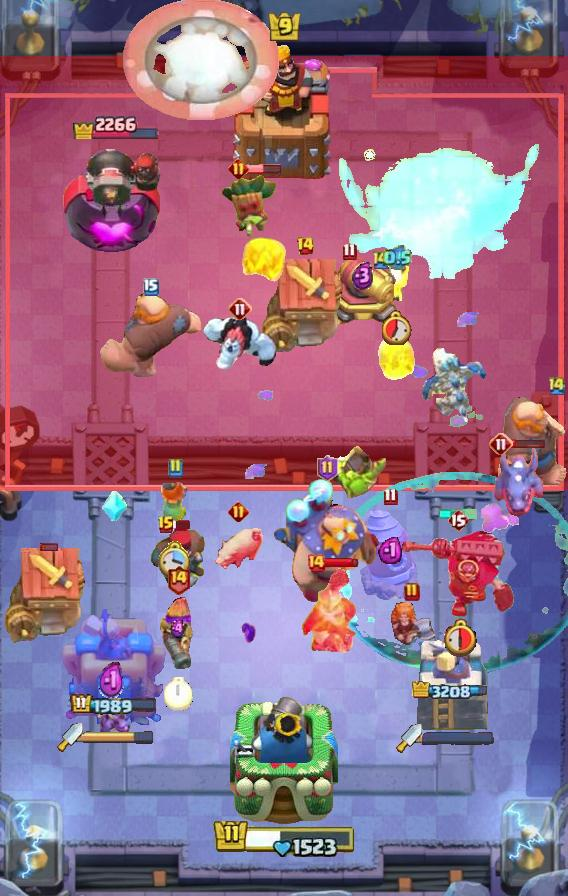balloon: (99, 289, 203, 381), (494, 393, 568, 501)
bar: (62, 601, 166, 731), (416, 637, 490, 731)
bomb-tower: (157, 593, 199, 673)
clock: (212, 815, 356, 857)
electro-spirit: (99, 662, 125, 703), (383, 245, 412, 271), (378, 535, 402, 564), (352, 262, 374, 291), (169, 619, 187, 637)
elixir: (439, 617, 477, 657), (158, 539, 193, 579), (382, 310, 412, 345), (163, 677, 192, 711)
emote: (246, 163, 282, 175), (323, 557, 359, 569), (510, 439, 545, 450), (172, 518, 192, 529), (40, 542, 59, 552)
giant: (212, 522, 264, 572)
goblin-barrel: (220, 173, 278, 239)
graveyard: (492, 446, 546, 518)
heal-spirit: (381, 258, 413, 304)
hog-rider: (387, 598, 437, 648), (156, 477, 194, 529)
ice-spirit: (438, 509, 478, 519)
inferno-tower: (400, 531, 516, 619)
king-tower: (230, 43, 338, 181), (230, 692, 338, 826)
king-tower-bar: (83, 730, 155, 744), (422, 731, 494, 745)
little-prince: (274, 478, 380, 604)
magic-archer: (360, 507, 420, 601)
mega-knight: (317, 131, 539, 305)
mini-pekka: (420, 344, 490, 428)
pad_0: (332, 472, 568, 678)
pad_2: (101, 491, 127, 523)
phoenix-small: (148, 526, 208, 598)
rage: (201, 313, 279, 373)
royal-delivery: (91, 699, 131, 747)
royal-recruit: (324, 254, 402, 330)
selected: (69, 109, 158, 139), (70, 693, 158, 717), (412, 681, 494, 703)
sparky: (262, 258, 348, 356), (5, 547, 91, 645)
text: (165, 564, 190, 595), (228, 297, 252, 321), (489, 432, 513, 456), (318, 455, 339, 481), (447, 508, 469, 532), (227, 157, 248, 179), (227, 502, 248, 523), (371, 250, 391, 271), (547, 376, 567, 397), (306, 553, 326, 573), (296, 236, 315, 256), (157, 515, 175, 535), (167, 458, 183, 478), (404, 582, 420, 602), (143, 278, 159, 296), (383, 486, 398, 505), (343, 243, 357, 261)
tower-bar: (62, 138, 166, 256)
valkyrie: (232, 230, 292, 294), (373, 333, 419, 389)
wall-breaker: (122, 0, 279, 120)
wall-breaker-evolution: (301, 568, 359, 653)
x-bow: (325, 444, 388, 500)
